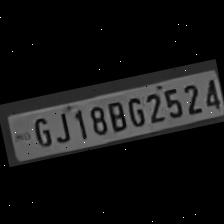1: (66, 104, 90, 142)
2: (140, 87, 164, 124), (178, 80, 201, 116)
4: (196, 74, 222, 110)
5: (158, 82, 182, 119)
8: (83, 99, 109, 136)
B: (102, 95, 128, 132)
G: (26, 111, 52, 148), (122, 92, 146, 128)
J: (48, 106, 73, 144)
